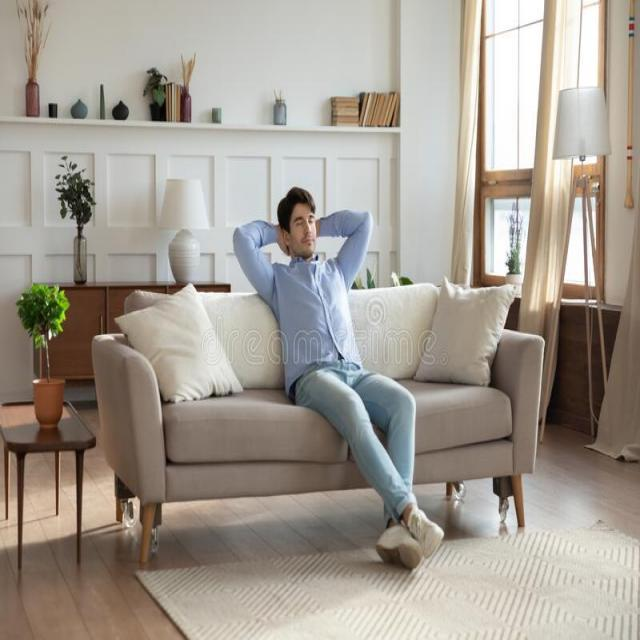sitting: (223, 176, 459, 574)
